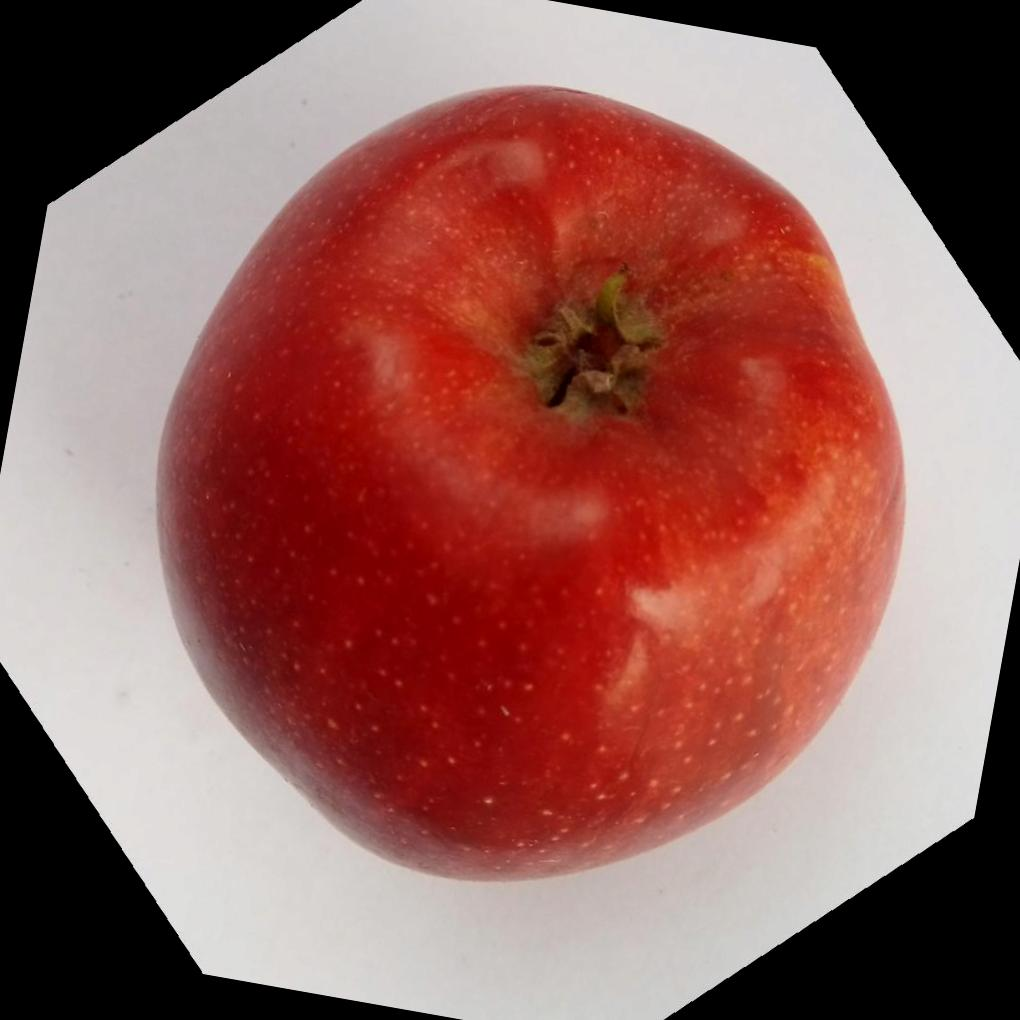FreshGuava: (154, 79, 911, 879)
